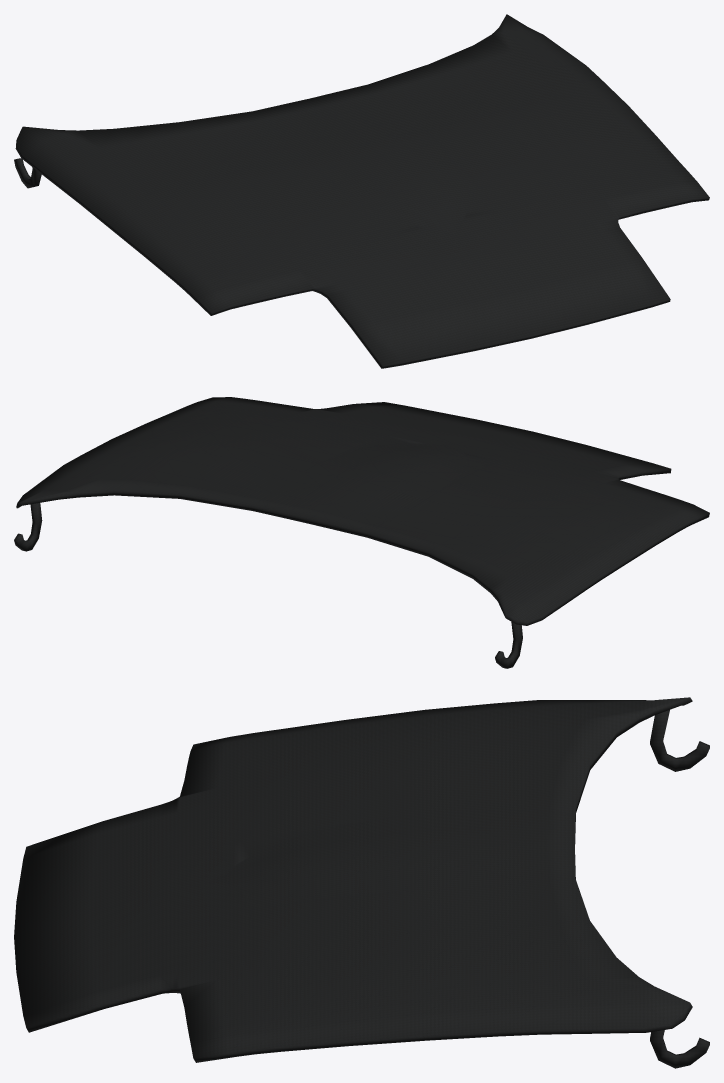
The model's file is HD40_carbon_bonnet.glb.
3 renders of one model, top to bottom at view 1: azimuth 30°, elevation 25°; view 2: azimuth 150°, elevation 25°; view 3: azimuth 270°, elevation 25°, orthographic. The views are drawn at different scales.
Visible parts, largest first — view 1: MOD_NA_HD40_panel; view 2: MOD_NA_HD40_panel; view 3: MOD_NA_HD40_panel.
Boxes of the visible parts, <box> form: MOD_NA_HD40_panel: <box>14,14,709,368</box>; MOD_NA_HD40_panel: <box>14,397,709,668</box>; MOD_NA_HD40_panel: <box>14,697,709,1068</box>.
Bounding box in the file's own units: 1.4 × 0.2103 × 1.27.
1 material, 1 textured.
